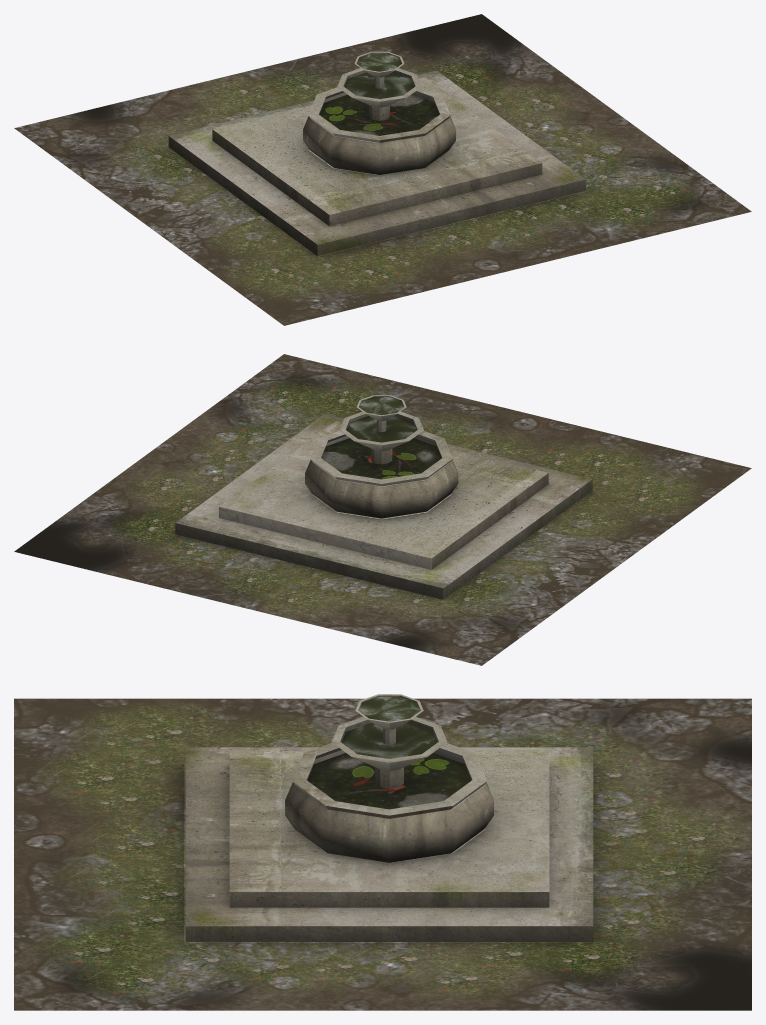
Rendered from Fountain.FBX.
3 renders of one model, top to bottom at view 1: azimuth 30°, elevation 25°; view 2: azimuth 150°, elevation 25°; view 3: azimuth 270°, elevation 25°, orthographic. The views are drawn at different scales.
Visible parts, largest first — view 1: Foundatin; view 2: Foundatin; view 3: Foundatin.
Boxes of the visible parts, x1,y1,x2,y2 form: Foundatin: (14,14,751,325); Foundatin: (14,354,751,665); Foundatin: (14,694,751,1010).
Size of the model in its own units: 5.91 by 1.29 by 5.91.
